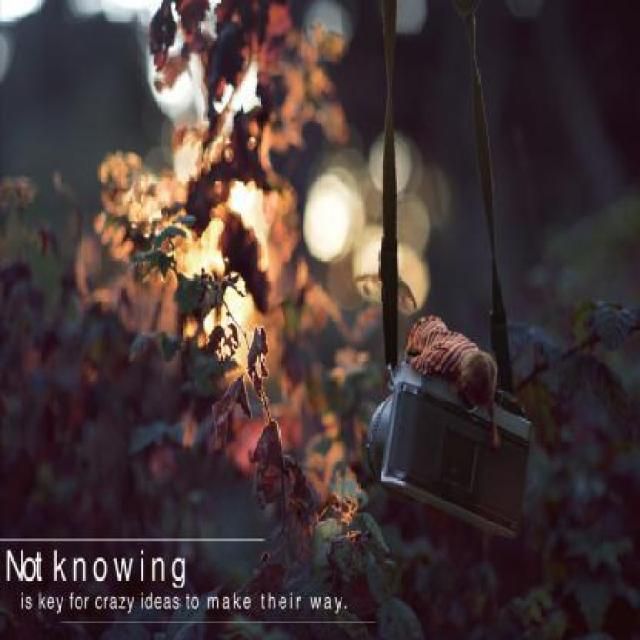Person: (390, 302, 513, 442)
